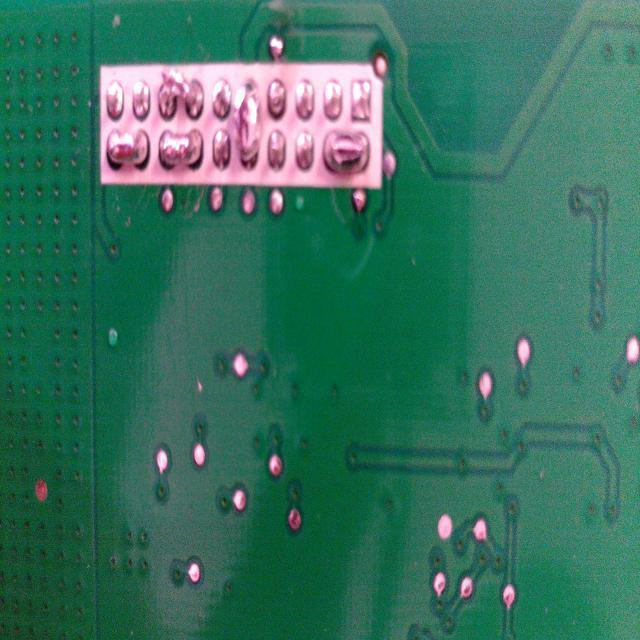Soldering shorted: (154, 67, 207, 125), (234, 76, 262, 175), (158, 125, 206, 178), (322, 129, 372, 178), (104, 126, 152, 177)
